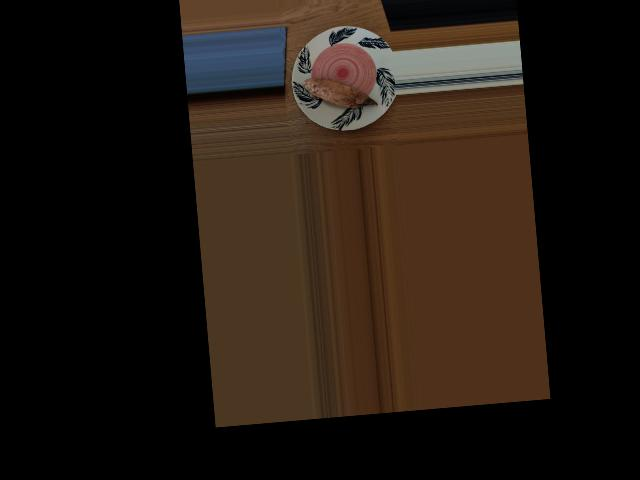sweet_potato: (307, 70, 370, 112)
